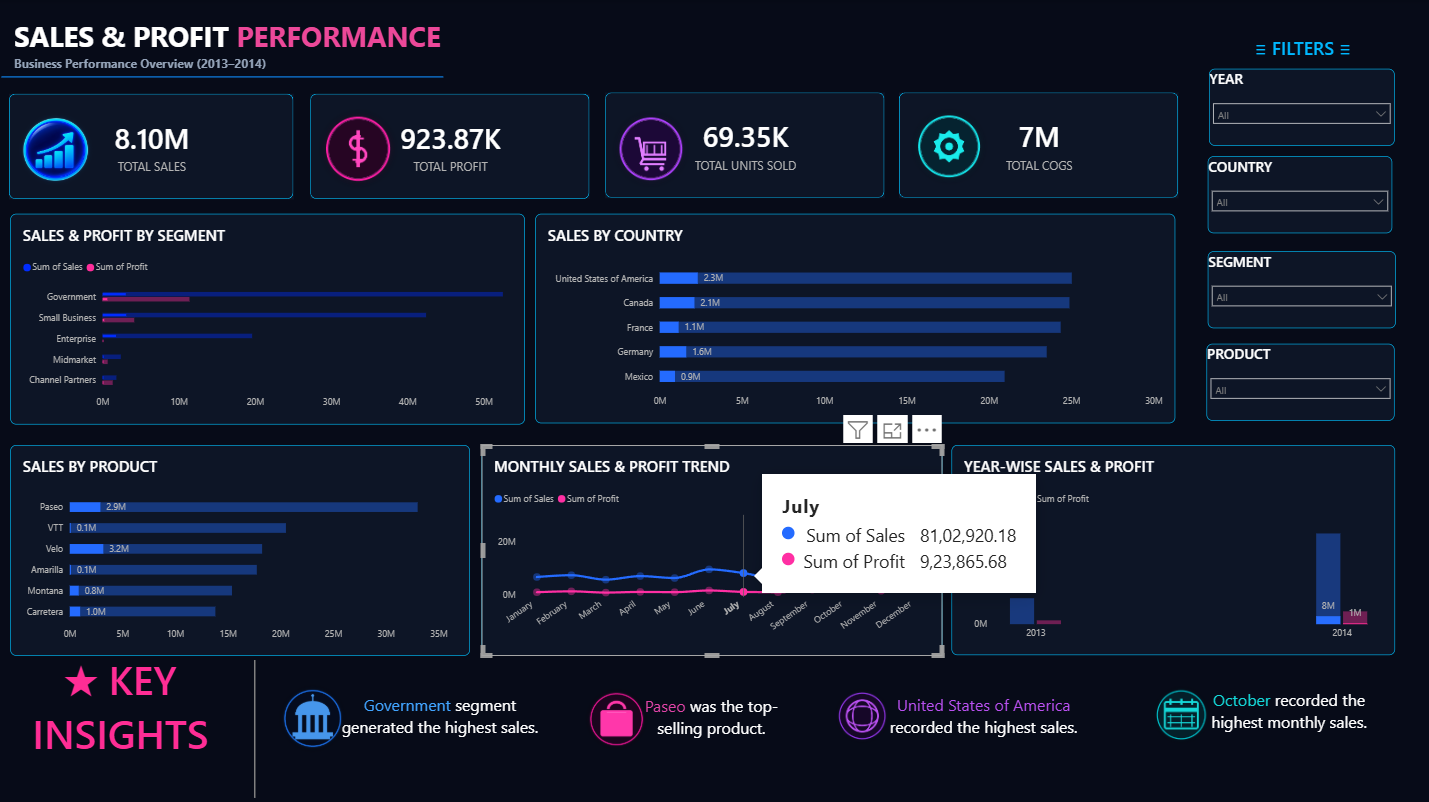

The page's visual inventory and layout, read from the dashboard file:
{"tool":"powerbi","page":{"name":"Sales & Profit Overview","canvas":[1920,1080],"ordinal":0},"visuals":[{"type":"textbox","box":[20.9,22.7,577,162.2],"z":0},{"type":"slicer","title":"YEAR","fields":{"Values":["Week4_Final_Cleaned_Sales_Data.Year"]},"box":[1622.3,92.4,248.8,103.1],"z":0,"group":"g1"},{"type":"shape","box":[3.5,82,592,41.9],"z":1000},{"type":"slicer","title":"COUNTRY","fields":{"Values":["Week4_Final_Cleaned_Sales_Data.Country"]},"box":[1620.9,209.9,247.1,103.1],"z":1000,"group":"g1"},{"type":"cardVisual","fields":{"Data":["Sum(Week4_Final_Cleaned_Sales_Data.Sales)"]},"box":[14,125.6,381.6,141.3],"z":2000},{"type":"slicer","title":"SEGMENT","fields":{"Values":["Week4_Final_Cleaned_Sales_Data.Segment"]},"box":[1619.5,337.5,252,103.1],"z":2000,"group":"g1"},{"type":"cardVisual","fields":{"Data":["Sum(Week4_Final_Cleaned_Sales_Data.Profit)"]},"box":[416.9,125.9,374,141],"z":3000},{"type":"slicer","title":"PRODUCT","fields":{"Values":["Week4_Final_Cleaned_Sales_Data.Product"]},"box":[1618.6,461.2,252,103.1],"z":3000,"group":"g1"},{"type":"cardVisual","fields":{"Data":["Sum(Week4_Final_Cleaned_Sales_Data.Units Sold)"]},"box":[812.1,123.8,374,141.3],"z":4000},{"type":"cardVisual","fields":{"Data":["Sum(Week4_Final_Cleaned_Sales_Data.COGS)"]},"box":[1205.9,123.8,374.3,141.3],"z":5000},{"type":"clusteredBarChart","title":"SALES & PROFIT BY SEGMENT","fields":{"Category":["Week4_Final_Cleaned_Sales_Data.Segment"],"Y":["Sum(Week4_Final_Cleaned_Sales_Data.Sales)","Sum(Week4_Final_Cleaned_Sales_Data.Profit)"]},"box":[15.7,286,689.3,282.6],"z":6000},{"type":"clusteredBarChart","title":"SALES BY COUNTRY","fields":{"Category":["Week4_Final_Cleaned_Sales_Data.Country"],"Y":["Sum(Week4_Final_Cleaned_Sales_Data.Sales)"]},"box":[718.6,286,857.8,280.8],"z":7000},{"type":"clusteredBarChart","title":"SALES BY PRODUCT","fields":{"Category":["Week4_Final_Cleaned_Sales_Data.Product"],"Y":["Sum(Week4_Final_Cleaned_Sales_Data.Sales)"]},"box":[15.7,596.5,616,282.6],"z":8000},{"type":"lineChart","title":"MONTHLY SALES & PROFIT TREND","fields":{"Category":["Week4_Final_Cleaned_Sales_Data.Month Name"],"Y":["Sum(Week4_Final_Cleaned_Sales_Data.Sales)","Sum(Week4_Final_Cleaned_Sales_Data.Profit)"]},"box":[647.1,596.5,617.4,282.6],"z":9000},{"type":"group","id":"g1","title":"Group 1","box":[1618.6,92.4,252.9,472],"z":10000},{"type":"textbox","box":[1657,48.8,181.4,43.3],"z":11000},{"type":"clusteredColumnChart","title":"YEAR-WISE SALES & PROFIT","fields":{"Category":["Week4_Final_Cleaned_Sales_Data.Year"],"Y":["Sum(Week4_Final_Cleaned_Sales_Data.Sales)","Sum(Week4_Final_Cleaned_Sales_Data.Profit)"]},"box":[1276.7,596.5,594.8,281.9],"z":12000},{"type":"textbox","box":[10.5,873.8,305.2,200.6],"z":13000},{"type":"image","box":[6.3,113.4,139.2,174.4],"z":13001},{"type":"image","box":[427.3,116.9,108.1,164],"z":13002},{"type":"image","box":[820.8,112.3,105.7,174.4],"z":13003},{"type":"image","box":[1220.9,108.5,104.3,174.4],"z":13004},{"type":"shape","box":[205,885,276.7,185],"z":13005},{"type":"textbox","box":[446.2,930,290.6,150],"z":13006},{"type":"image","box":[363.8,916,113.7,93.1],"z":13007},{"type":"textbox","box":[850.5,931.7,207.6,64.2],"z":13008},{"type":"image","box":[782.4,920.9,90.7,85.1],"z":13009},{"type":"textbox","box":[1186,930.4,266.9,81.6],"z":13010},{"type":"image","box":[1115.2,921.3,82.3,76],"z":13011},{"type":"textbox","box":[1618.3,923.7,221.2,83],"z":13012},{"type":"image","box":[1541.5,918.1,86.5,80.2],"z":13013}]}

Visuals, with their boxes in screenshot pixels (x1, y1, x2, y2), scaled from the page's 1920x1080 canvas onto the 1429x802 screenshot:
textbox: region(16, 17, 445, 137)
"YEAR" slicer: region(1207, 69, 1393, 145)
shape: region(3, 61, 443, 92)
"COUNTRY" slicer: region(1206, 156, 1390, 232)
cardVisual - Sum(Week4_Final_Cleaned_Sales_Data.Sales): region(10, 93, 294, 198)
"SEGMENT" slicer: region(1205, 251, 1393, 327)
cardVisual - Sum(Week4_Final_Cleaned_Sales_Data.Profit): region(310, 93, 589, 198)
"PRODUCT" slicer: region(1205, 342, 1392, 419)
cardVisual - Sum(Week4_Final_Cleaned_Sales_Data.Units Sold): region(604, 92, 883, 197)
cardVisual - Sum(Week4_Final_Cleaned_Sales_Data.COGS): region(898, 92, 1176, 197)
"SALES & PROFIT BY SEGMENT" clusteredBarChart: region(12, 212, 525, 422)
"SALES BY COUNTRY" clusteredBarChart: region(535, 212, 1173, 421)
"SALES BY PRODUCT" clusteredBarChart: region(12, 443, 470, 653)
"MONTHLY SALES & PROFIT TREND" lineChart: region(482, 443, 941, 653)
"Group 1" group: region(1205, 69, 1393, 419)
textbox: region(1233, 36, 1368, 68)
"YEAR-WISE SALES & PROFIT" clusteredColumnChart: region(950, 443, 1393, 652)
textbox: region(8, 649, 235, 798)
image: region(5, 84, 108, 214)
image: region(318, 87, 398, 209)
image: region(611, 83, 690, 213)
image: region(909, 81, 986, 210)
shape: region(153, 657, 359, 795)
textbox: region(332, 691, 548, 801)
image: region(271, 680, 355, 749)
textbox: region(633, 692, 788, 740)
image: region(582, 684, 650, 747)
textbox: region(883, 691, 1081, 752)
image: region(830, 684, 891, 741)
textbox: region(1204, 686, 1369, 748)
image: region(1147, 682, 1212, 741)
